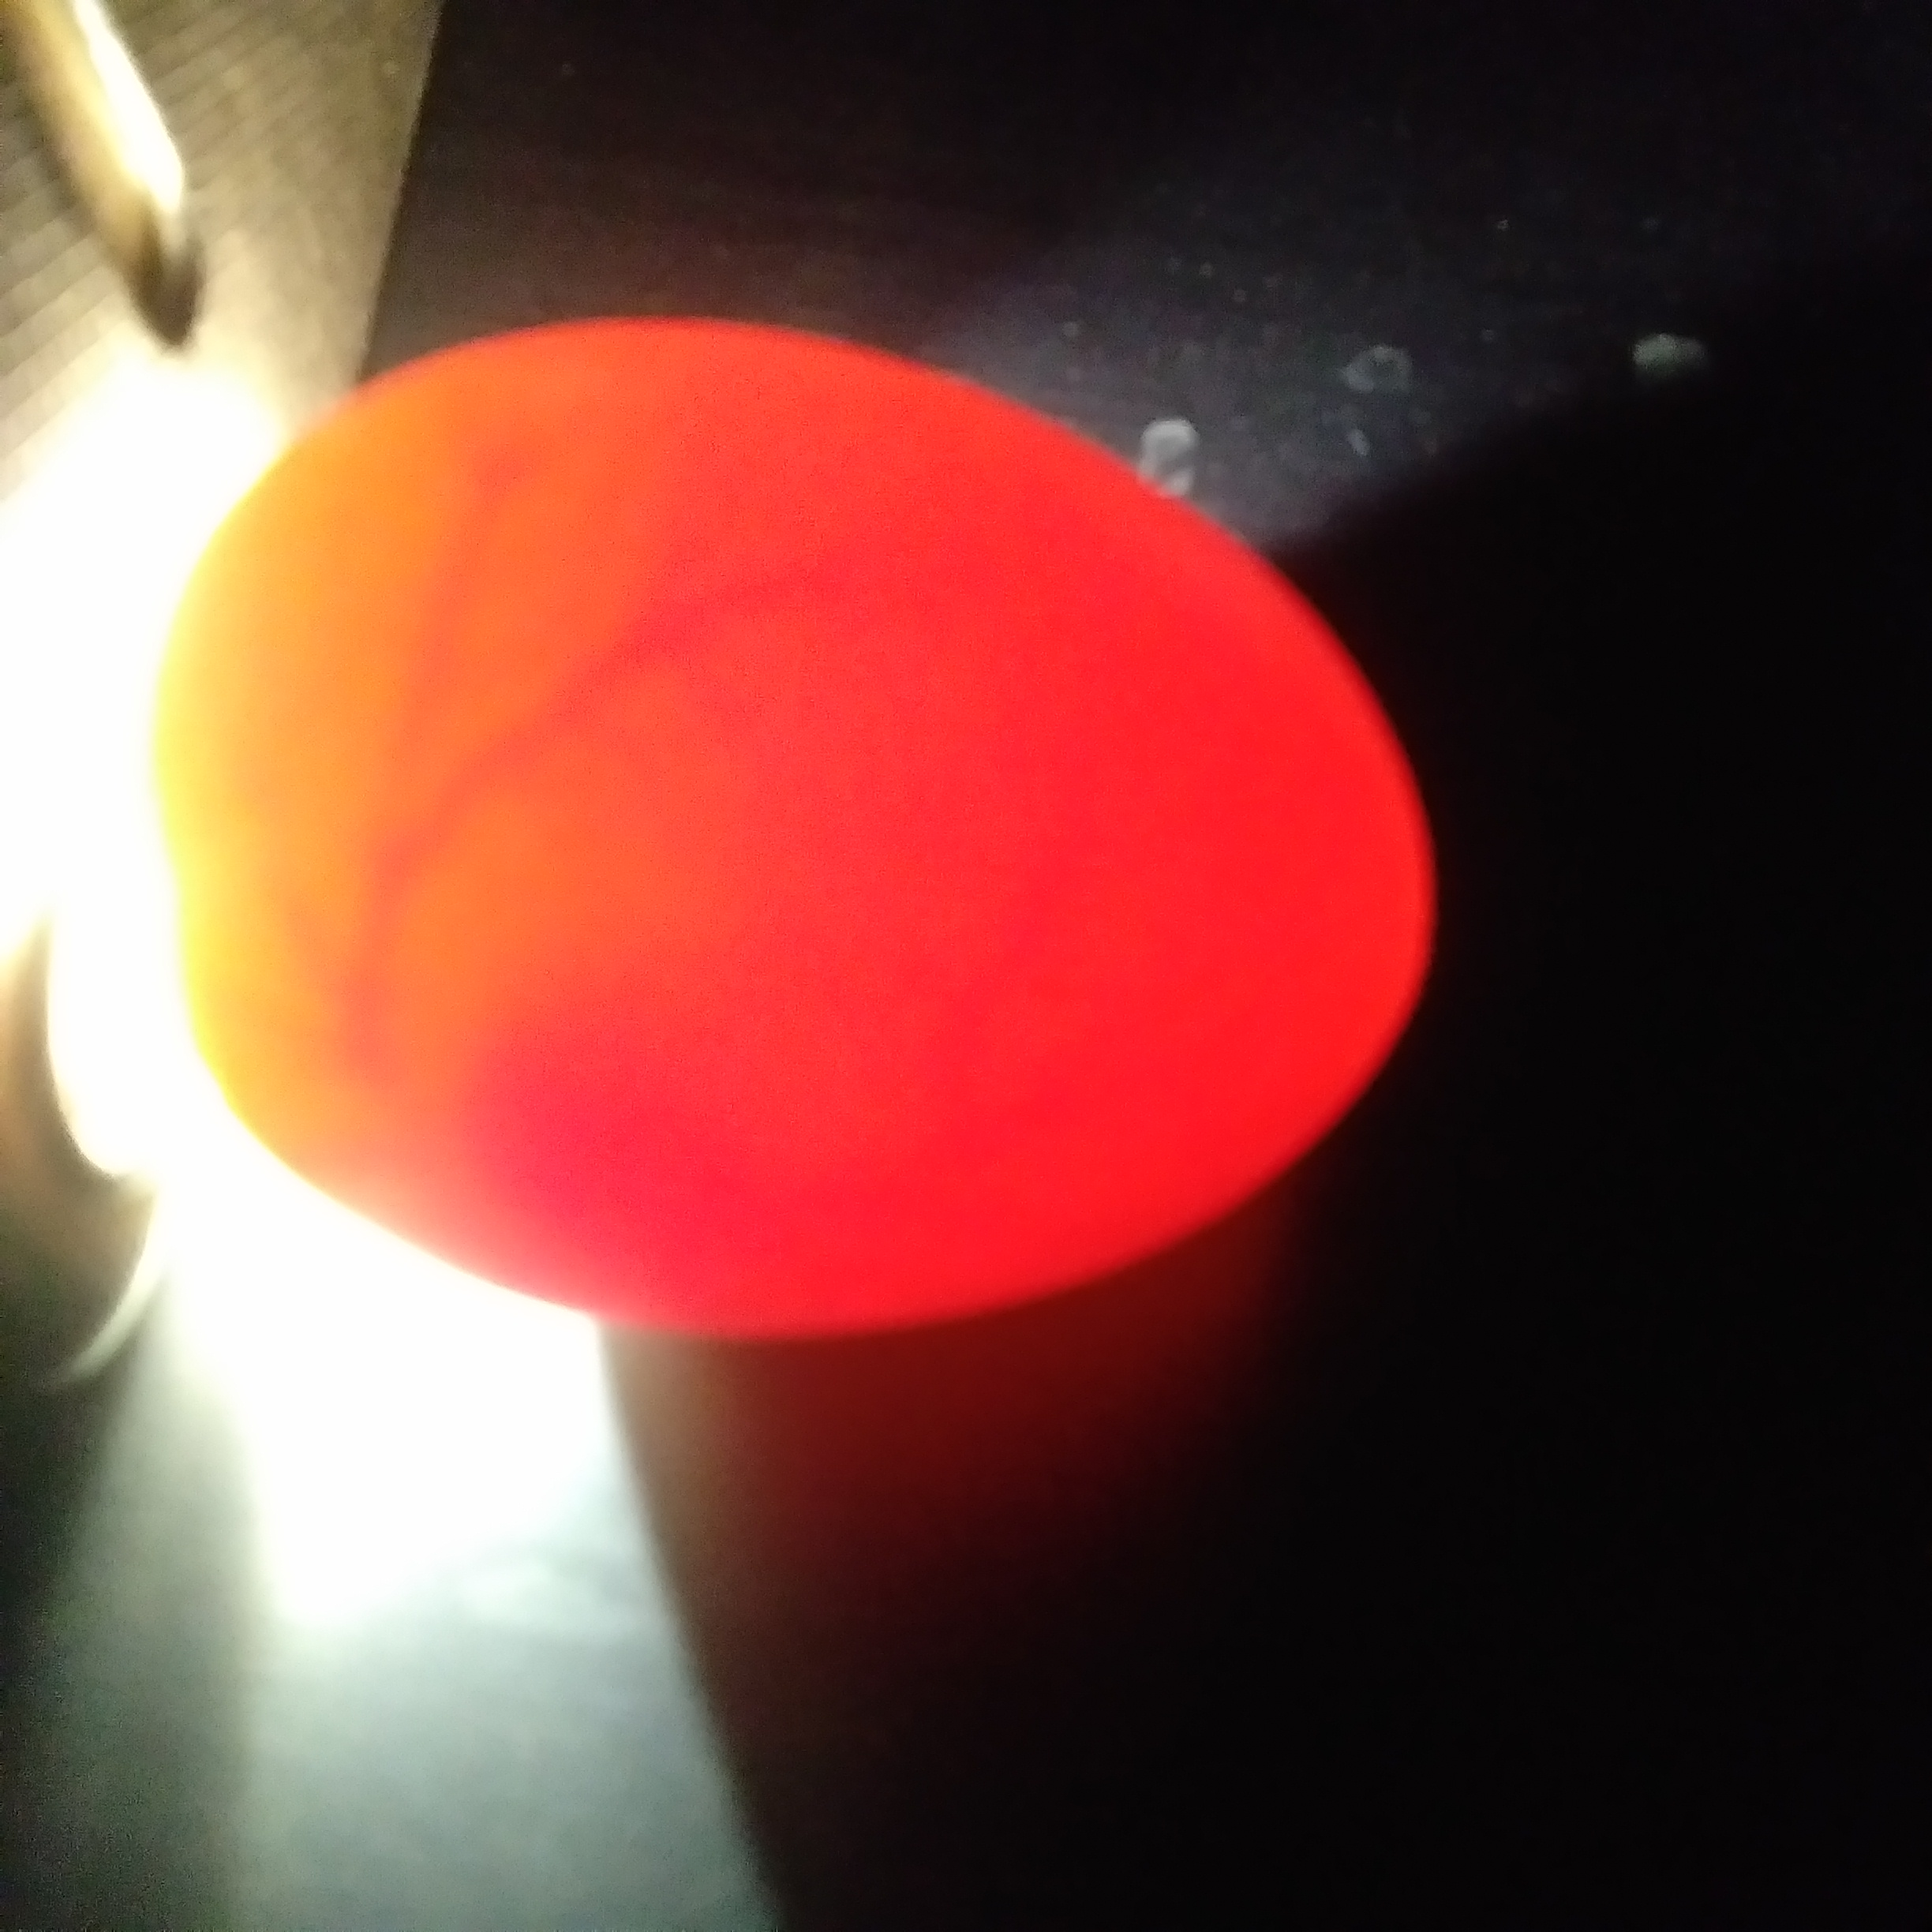bloodcell: (303, 616, 789, 1001)
embryo: (446, 1058, 671, 1277)
